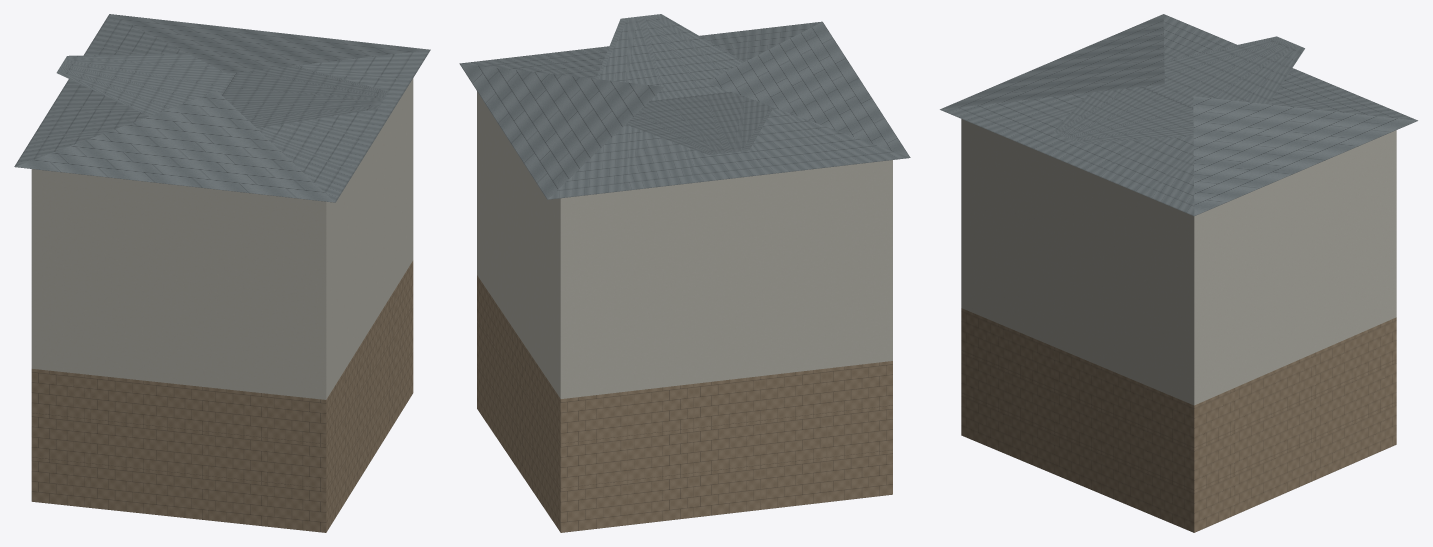
Rendered from bld_c8_18_425.gltf.
The picture shows the model from 3 angles, left to right: view 1: azimuth 30°, elevation 25°; view 2: azimuth 150°, elevation 25°; view 3: azimuth 270°, elevation 25°; orthographic projection. The views are drawn at different scales.
Visible parts, largest first — view 1: bld_c8_18_425; view 2: bld_c8_18_425; view 3: bld_c8_18_425.
Part boxes in pixels (x1,y1,x2,y2): bld_c8_18_425: [14, 14, 430, 532]; bld_c8_18_425: [459, 14, 910, 532]; bld_c8_18_425: [940, 14, 1417, 532].
Size of the model in its own units: 17.37 by 14 by 17.38.
Materials: 3 (3 with a texture image).
